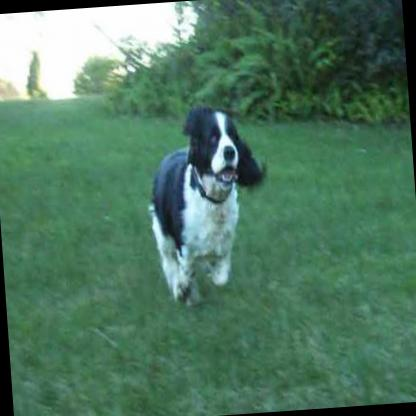English_springer: (141, 104, 276, 307)
